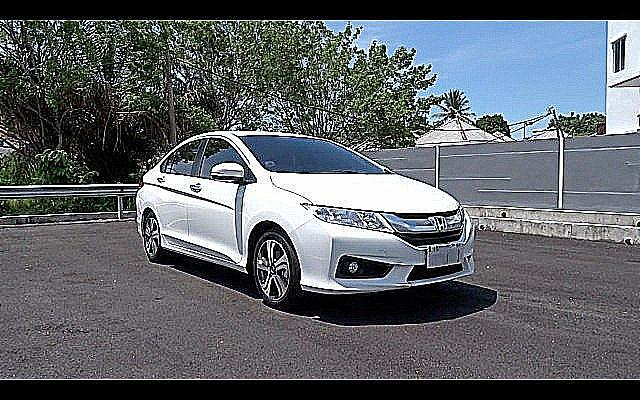Car hood: (264, 170, 459, 215)
Driver-s door - -F-R-: (185, 131, 247, 273)
Fender - -F-R-: (239, 165, 319, 245)
Fender - -R-R-: (137, 160, 161, 221)
Front bumper: (286, 217, 477, 298)
Headlight - -R-: (299, 203, 395, 235)
Passenger-s door - -R-R-: (152, 131, 208, 265)
Rear bumper: (132, 208, 145, 239)
Side bumper - -R-: (154, 226, 252, 283)
Side mirror - -R-: (206, 156, 249, 187)
